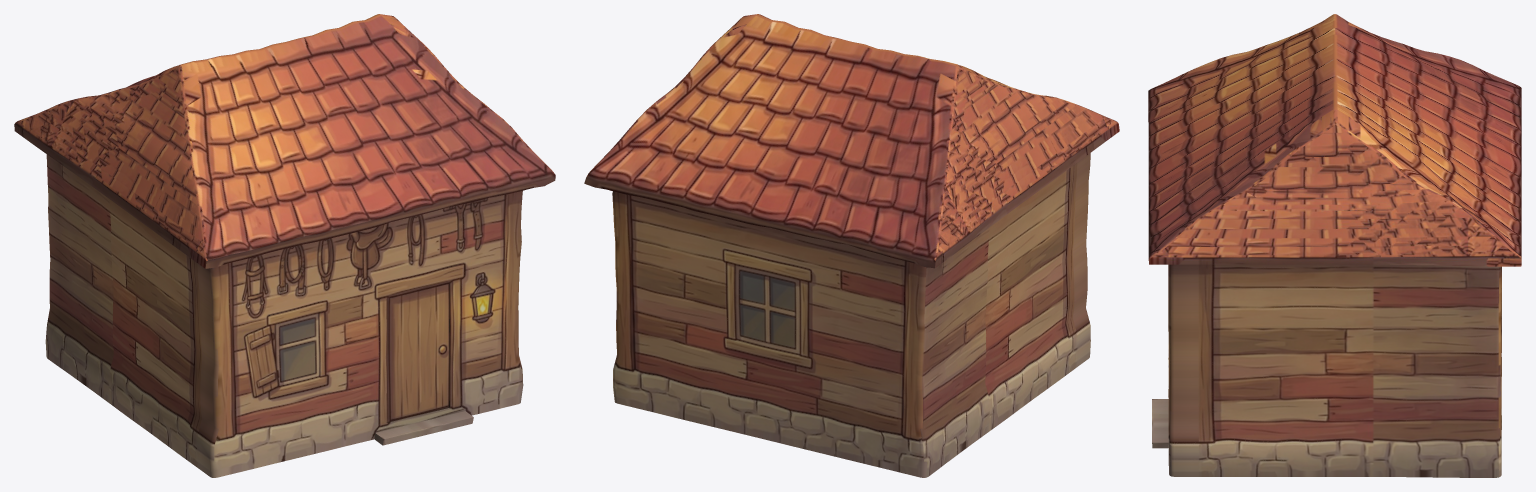
The model's file is havre_sellerie.glb.
3 views of the same model, side by side, from view 1: azimuth 30°, elevation 25°; view 2: azimuth 150°, elevation 25°; view 3: azimuth 270°, elevation 25° (orthographic).
Visible parts, largest first — view 1: maison; view 2: maison; view 3: maison.
Boxes of the visible parts, x1,y1,x2,y2 form: maison: [14, 14, 555, 477]; maison: [584, 14, 1119, 477]; maison: [1148, 14, 1521, 477].
Size of the model in its own units: 6.09 by 5.64 by 5.61.
Materials: 1 (1 with a texture image).
